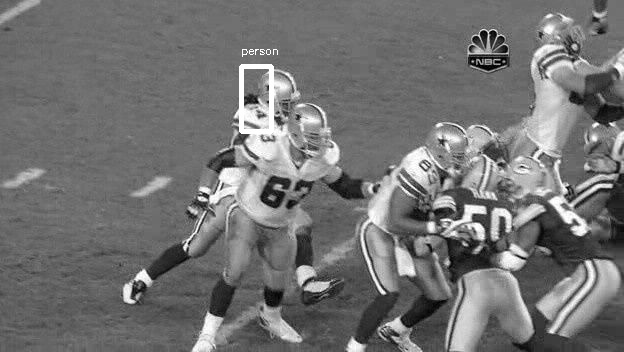person: (264, 71, 299, 116), (263, 71, 298, 116), (265, 71, 300, 116), (264, 70, 299, 115), (264, 72, 299, 117)
target_negative: (25, 71, 462, 339), (71, 131, 397, 267), (80, 92, 191, 262), (503, 163, 594, 342), (475, 101, 519, 183), (186, 336, 447, 340)
